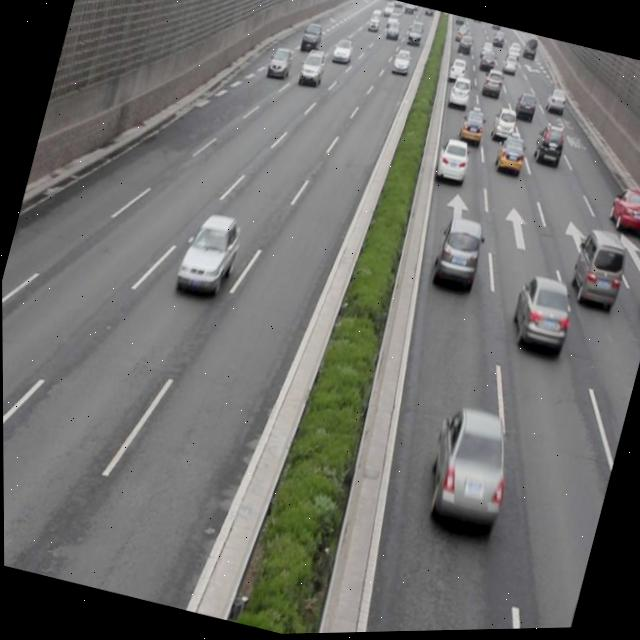car: (415, 401, 521, 536), (173, 208, 245, 299), (503, 272, 577, 358), (429, 214, 487, 293), (602, 182, 640, 243), (431, 136, 472, 187), (491, 131, 529, 179), (530, 121, 568, 168), (455, 106, 488, 148), (296, 46, 327, 89), (488, 106, 518, 145), (444, 75, 474, 112), (265, 44, 294, 82), (511, 90, 539, 126), (633, 267, 640, 331)
truck: (565, 225, 629, 314)
